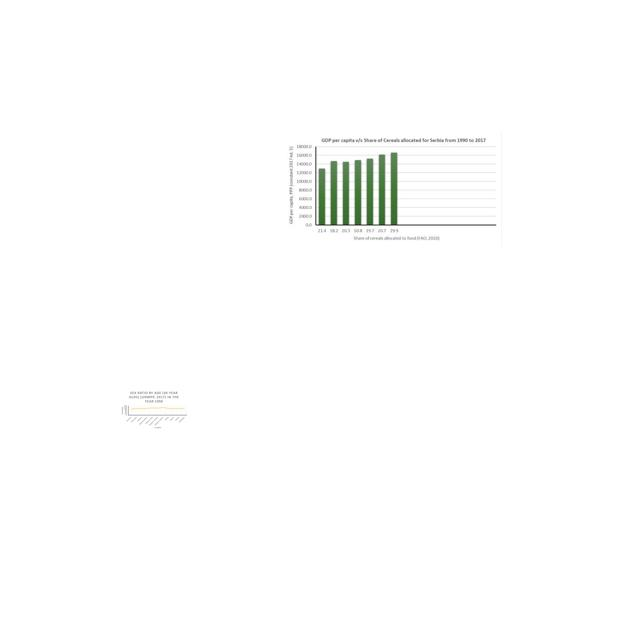Graph: (284, 131, 502, 246), (120, 390, 188, 429)
